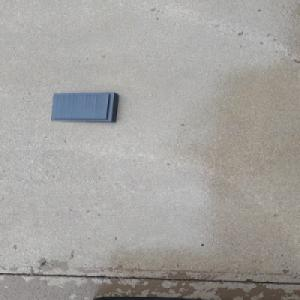PlasticPart: (49, 91, 120, 123)
